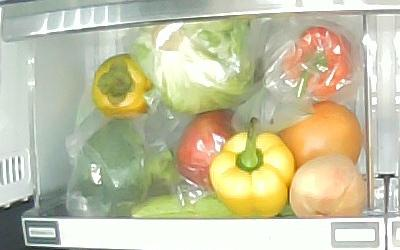apple_vinyl: (177, 111, 237, 188)
broccoli_vinyl: (74, 119, 185, 217)
grapefruit: (280, 102, 362, 171)
lettuce_vinyl: (131, 18, 265, 115)
paprika: (209, 117, 294, 217)
paprika_vinyl: (282, 27, 353, 101)
peach: (290, 154, 366, 216)
persimmon: (93, 54, 154, 120)
